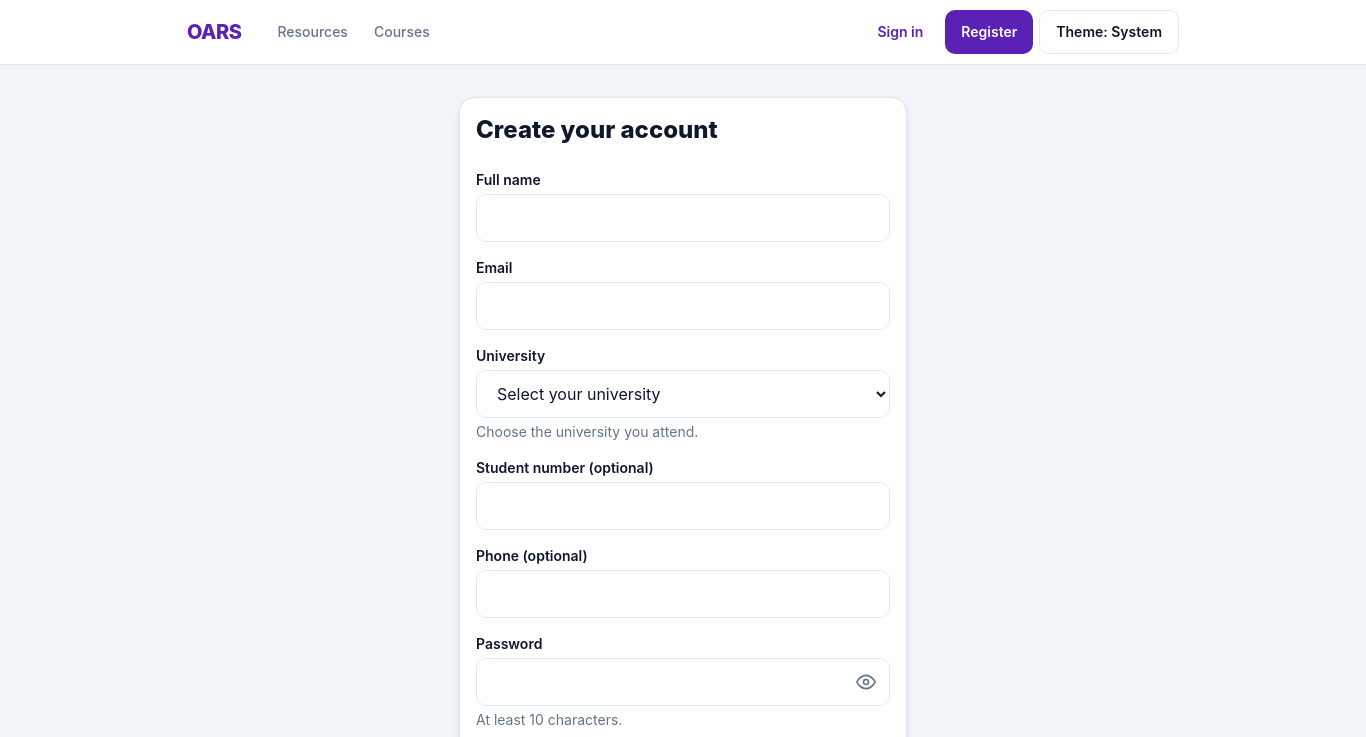
Test: RegisterPage › flags mismatched passwords
Type "Amina Nakato" into the field labelled "Full name" at coordinates (683, 218), box [476, 194, 890, 242]
Type "amina@example.com" into the field labelled "Email" at coordinates (683, 306), box [476, 282, 890, 330]
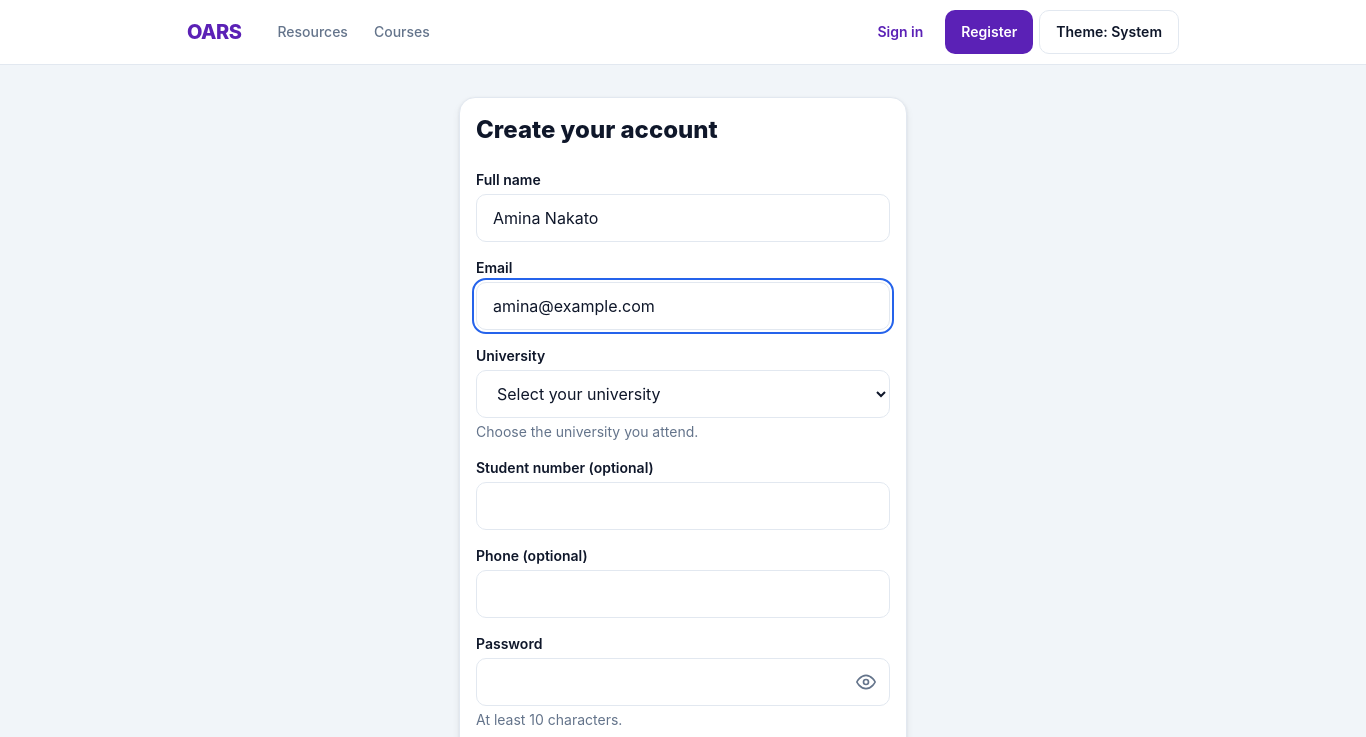
Select "Makerere University" in the dropdown labelled "University" at coordinates (683, 394), box [476, 370, 890, 418]
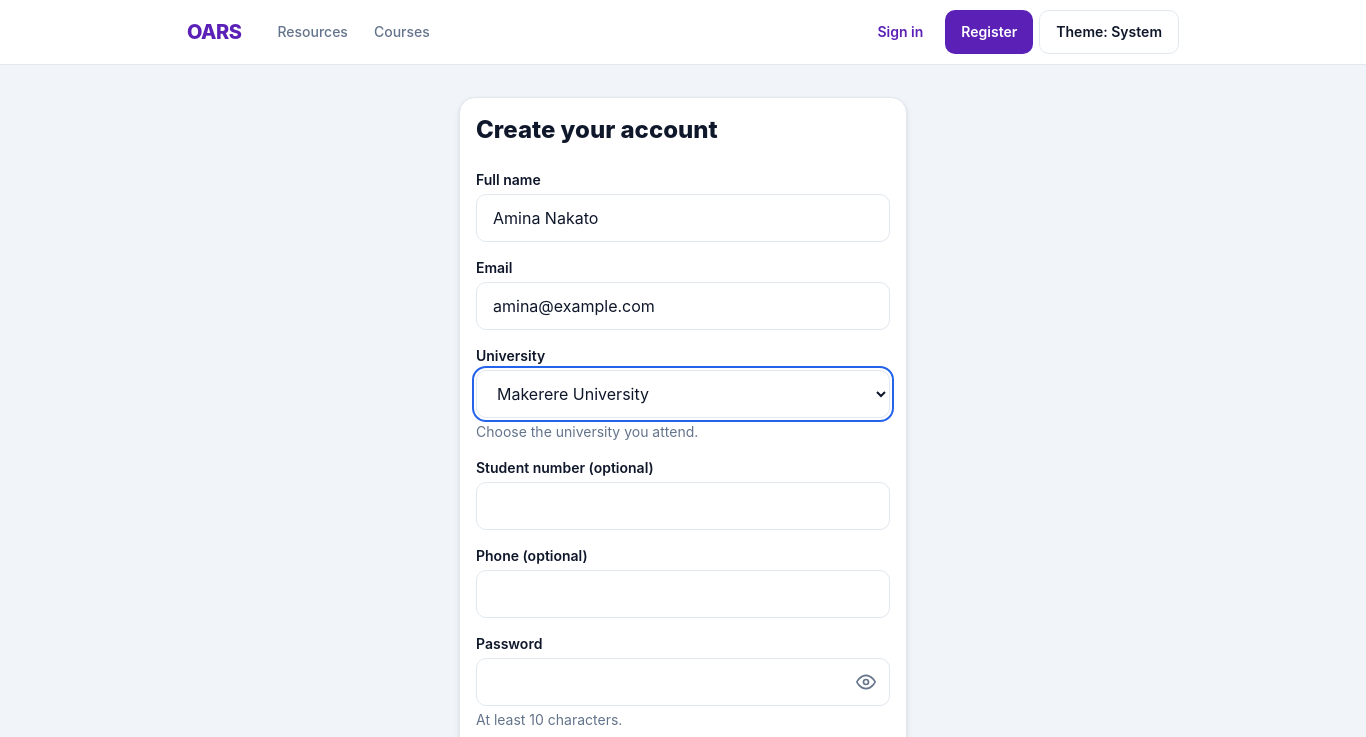
Type "correct-horse-battery" into the password field labelled "Password" at coordinates (683, 682), box [476, 658, 890, 706]
(page scrolled)
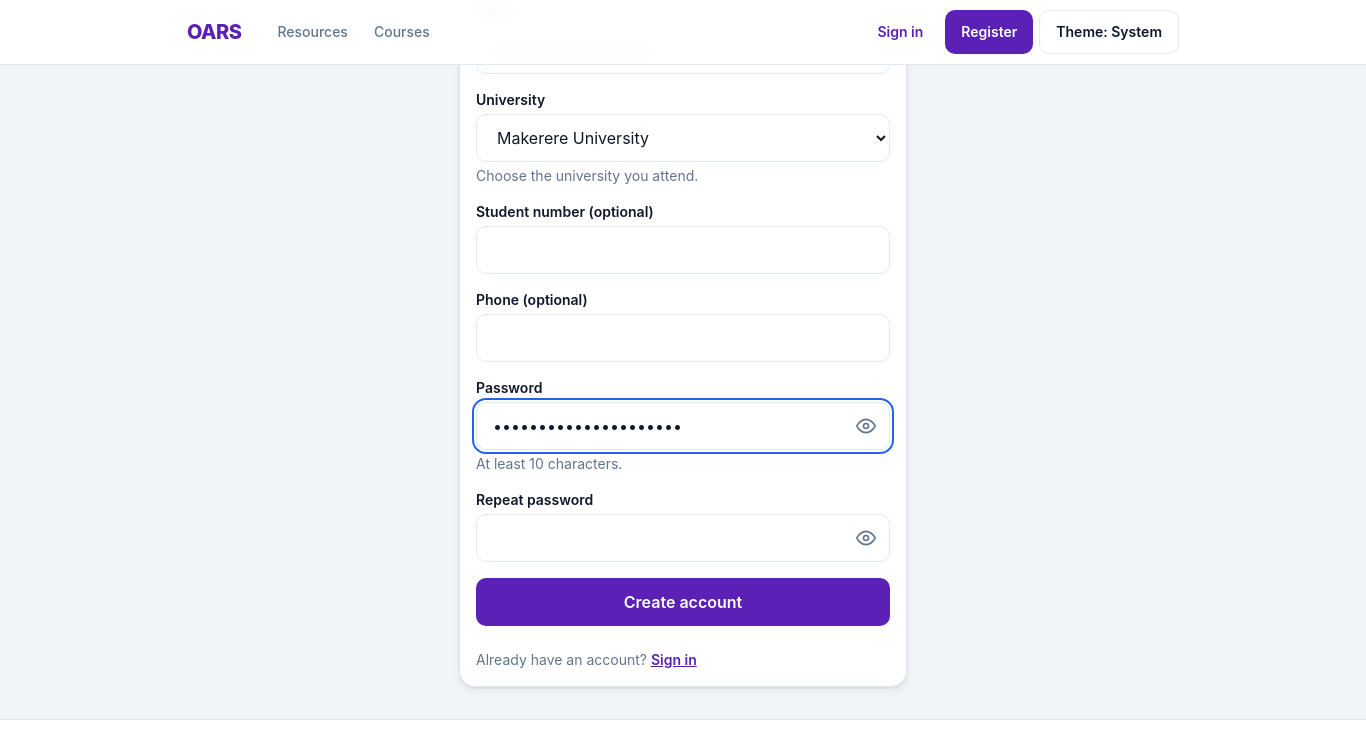
Type "correct-horse-battery" into the password field labelled "Repeat password" at coordinates (683, 538), box [476, 514, 890, 562]
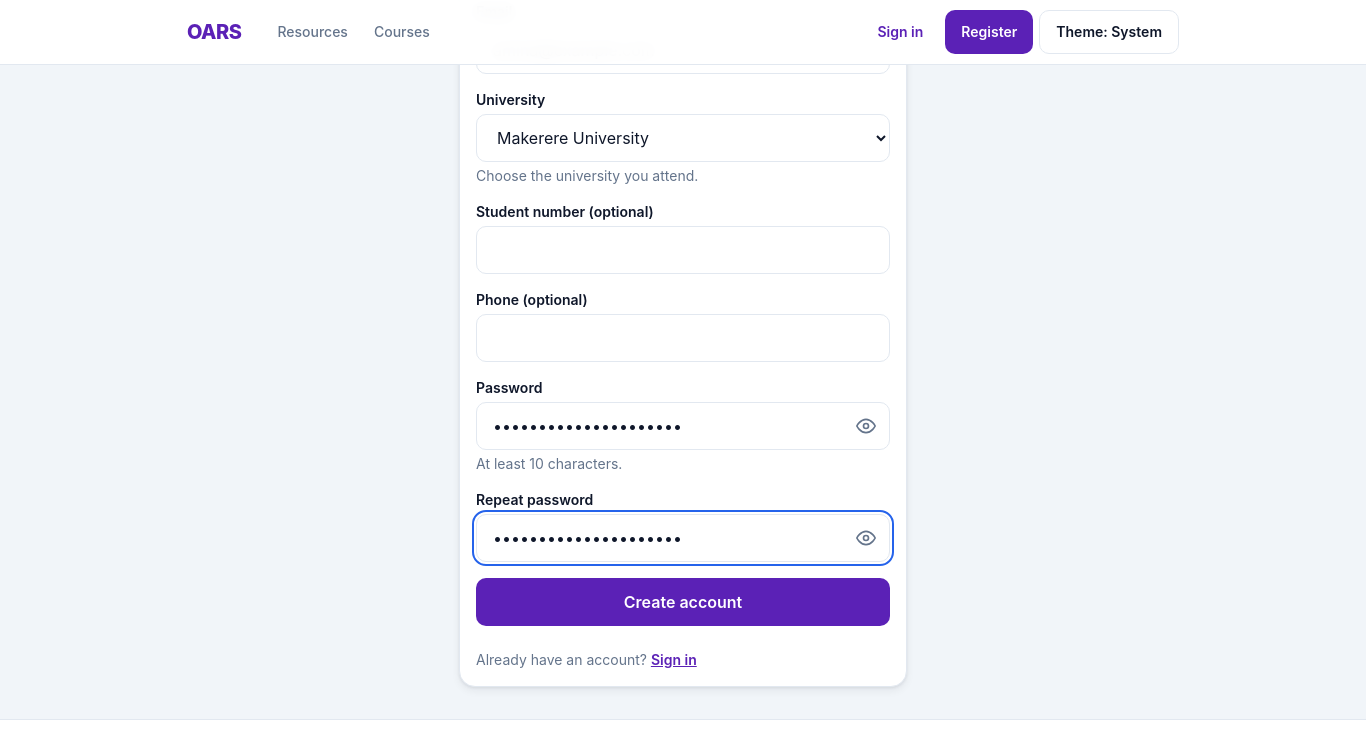
Type "something-else-entirely" into the password field labelled "Repeat password" at coordinates (683, 538), box [476, 514, 890, 562]
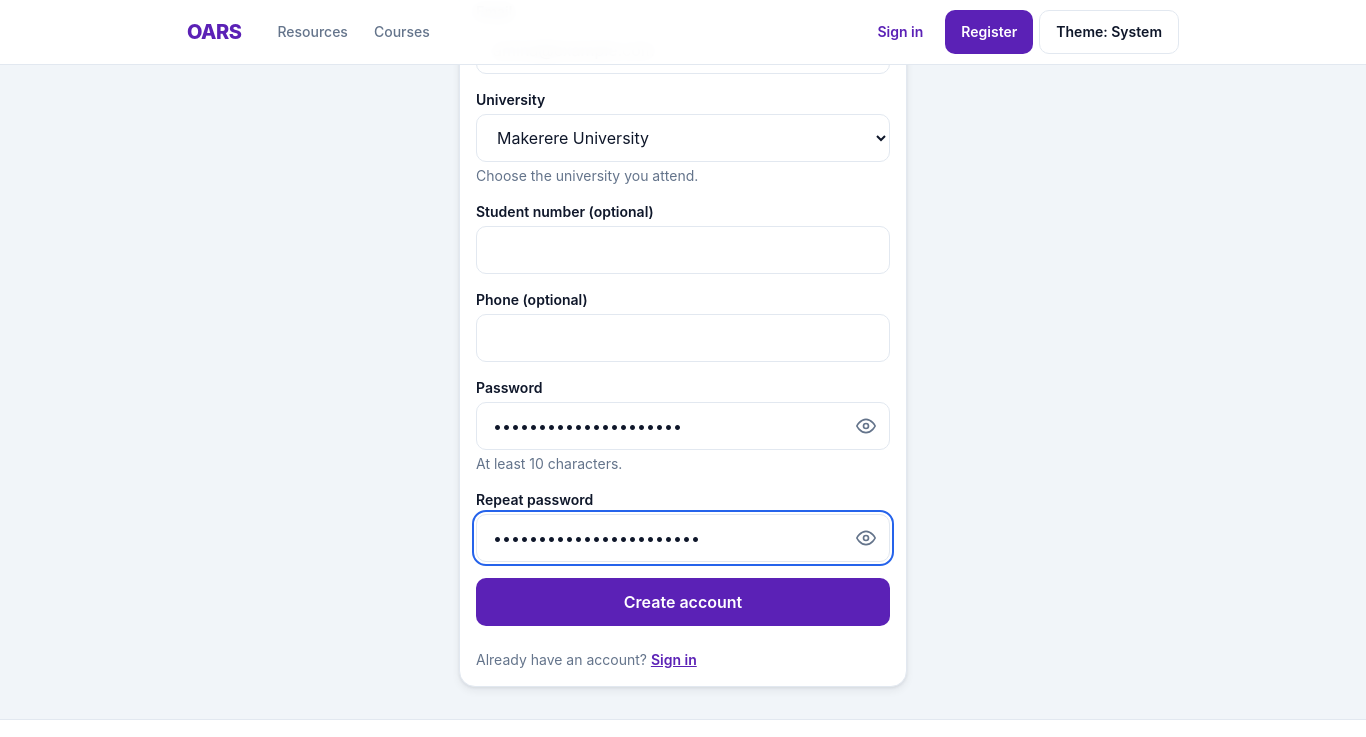
Click the button "Create account" at coordinates (683, 602), box [476, 578, 890, 626]
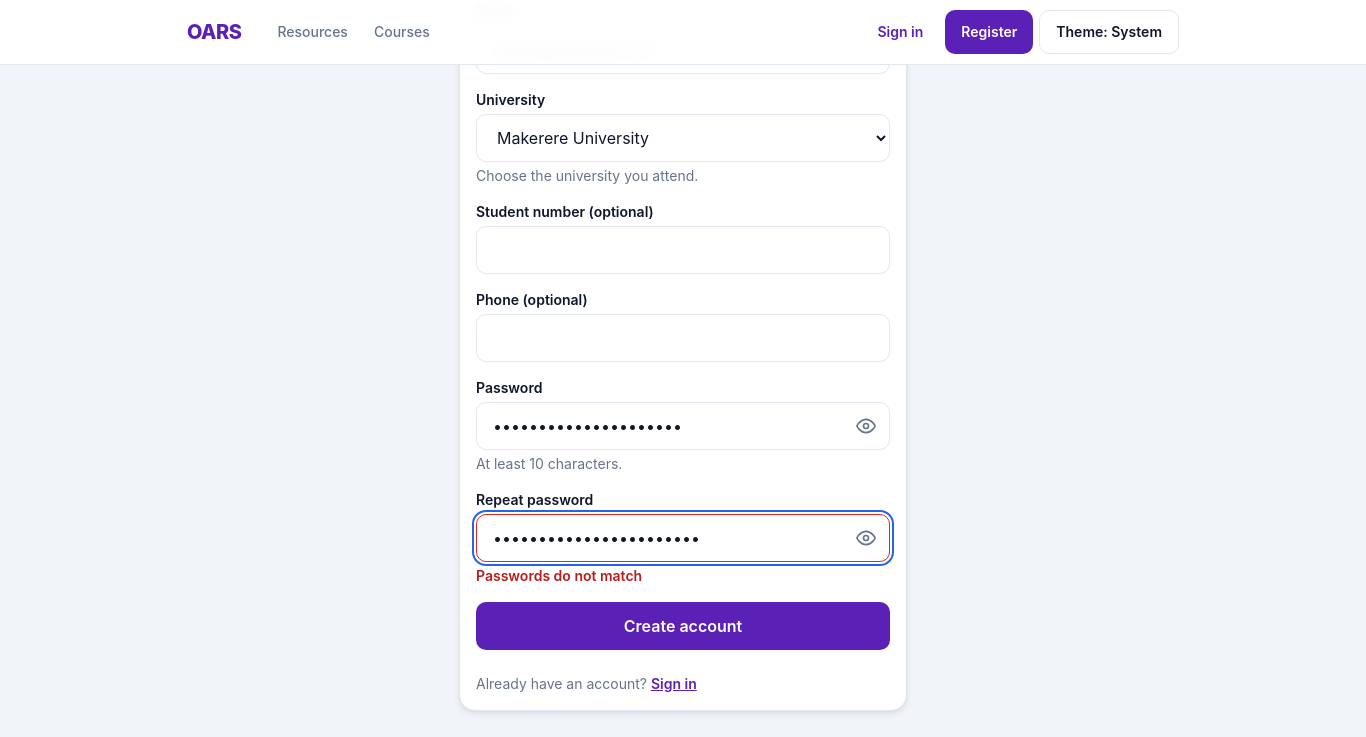
Result: the text "Passwords do not match" is shown at [476, 567, 642, 584]
